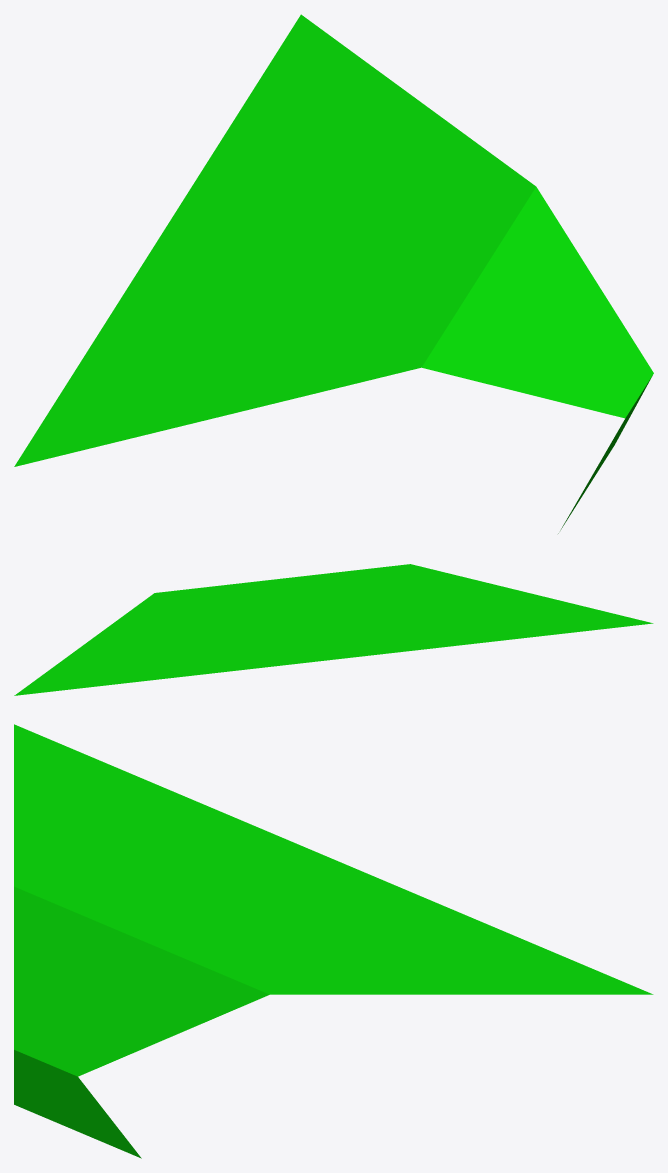
Rendered from Filler_TopFloor.glb.
3 views of the same model, one above another, from view 1: azimuth 30°, elevation 25°; view 2: azimuth 150°, elevation 25°; view 3: azimuth 270°, elevation 25° (orthographic). The views are drawn at different scales.
Visible parts, largest first — view 1: Filler_TopFloor; view 2: Filler_TopFloor; view 3: Filler_TopFloor.
Part boxes in pixels (box(x1,y1,x2,y2)): Filler_TopFloor: box(14, 14, 653, 533); Filler_TopFloor: box(14, 564, 653, 695); Filler_TopFloor: box(14, 724, 653, 1158).
Size of the model in its own units: 0.5 by 0.1414 by 0.5.
